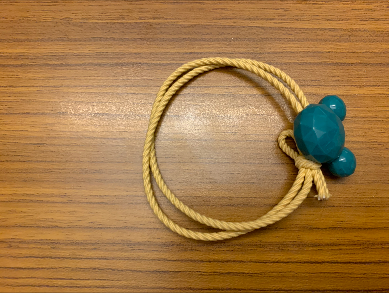object_name: (152, 50, 342, 240)
